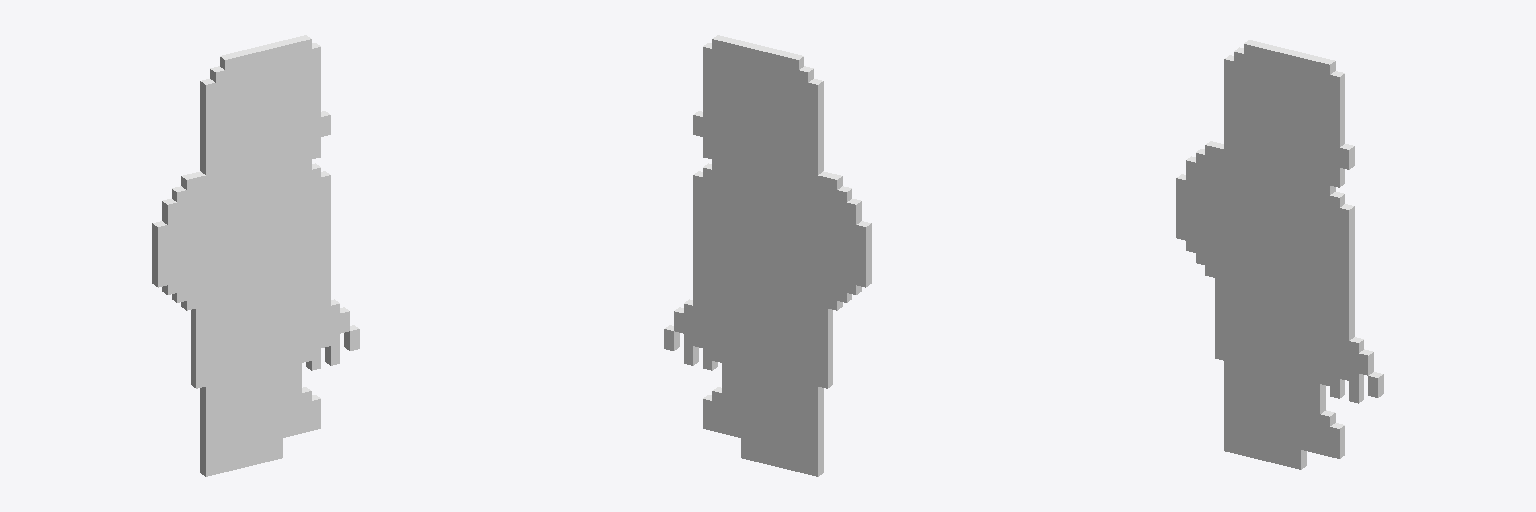
The model's file is JumpPowerUpExplosive.obj.
The picture shows the model from 3 angles: view 1: azimuth 30°, elevation 25°; view 2: azimuth 150°, elevation 25°; view 3: azimuth 330°, elevation 25°; orthographic projection.
Parts seen in each view (by area): view 1: object 1; view 2: object 1; view 3: object 1.
Part boxes in pixels (x1,y1,x2,y2): object 1: (152,35,359,476); object 1: (664,35,871,476); object 1: (1176,40,1383,469).
Bounding box in the file's own units: 2.1 × 4.1 × 0.1.